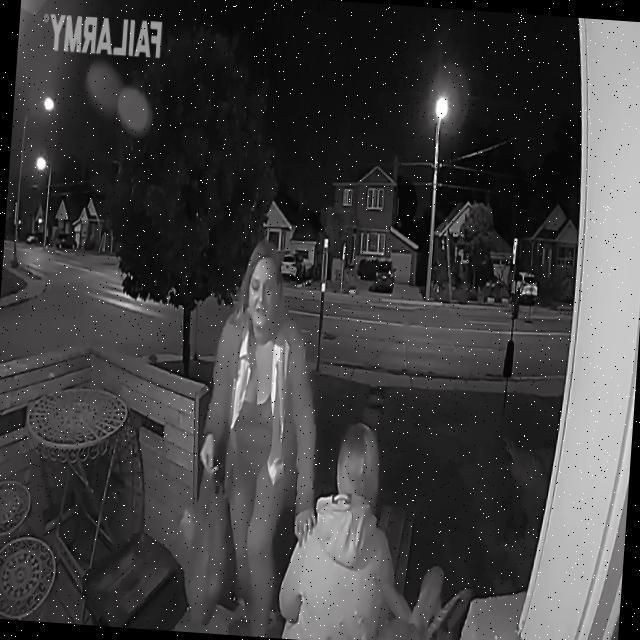person: (188, 252, 328, 640), (279, 414, 437, 640)
